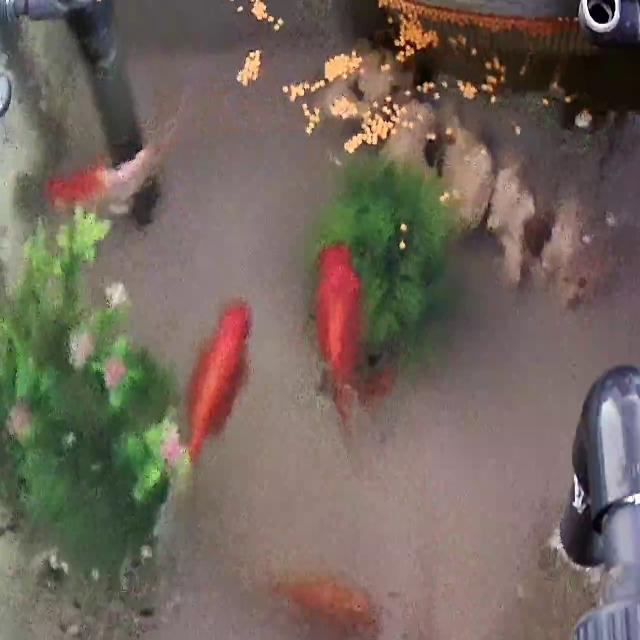fish: (43, 117, 199, 209), (183, 301, 253, 473), (312, 247, 358, 403), (274, 574, 368, 640)
